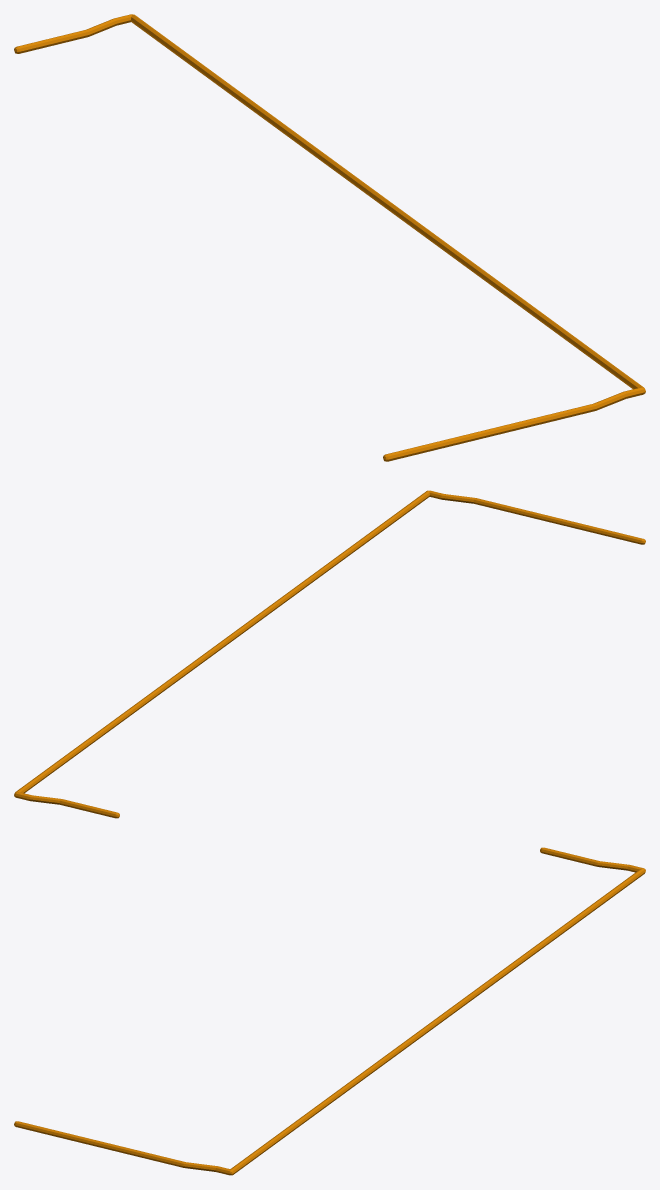
The picture shows the model from 3 angles, top to bottom: view 1: azimuth 30°, elevation 25°; view 2: azimuth 150°, elevation 25°; view 3: azimuth 330°, elevation 25°; orthographic projection. The views are drawn at different scales.
Bounding box in the file's own units: 771 × 20 × 2594.
